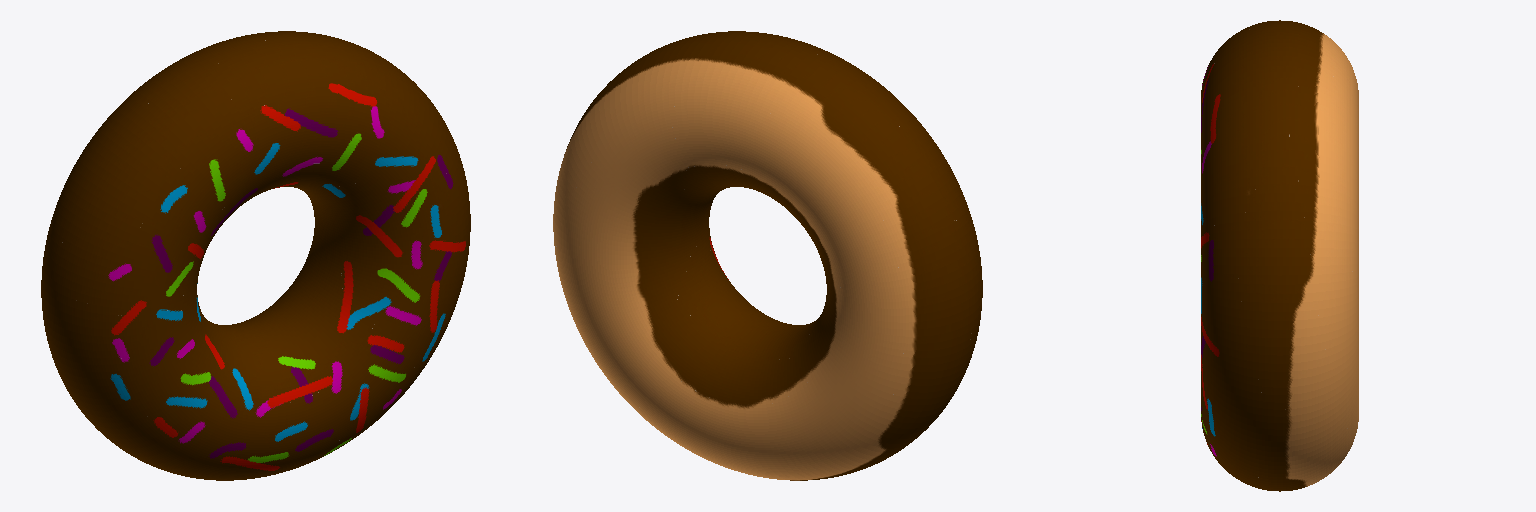
3 views of the same model, side by side, from view 1: azimuth 30°, elevation 25°; view 2: azimuth 150°, elevation 25°; view 3: azimuth 270°, elevation 25° (orthographic).
Size of the model in its own units: 1 by 1 by 0.3351.
Materials: 1 (1 with a texture image).